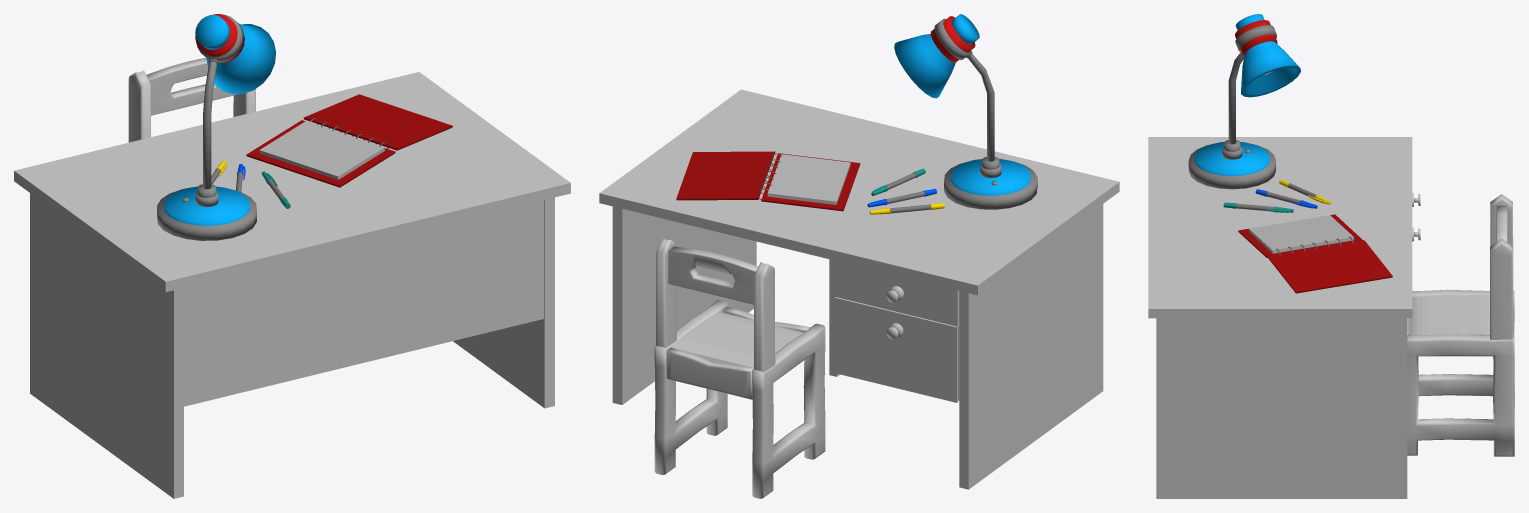
Rendered from Desk.fbx.
The picture shows the model from 3 angles, left to right: view 1: azimuth 30°, elevation 25°; view 2: azimuth 150°, elevation 25°; view 3: azimuth 270°, elevation 25°; orthographic projection. The views are drawn at different scales.
Parts seen in each view (by area): view 1: Desk; view 2: Desk; view 3: Desk.
Part boxes in pixels (bbox=[...]): Desk: bbox=[14, 14, 570, 498]; Desk: bbox=[599, 14, 1119, 498]; Desk: bbox=[1148, 14, 1514, 498].
Size of the model in its own units: 109 by 109 by 98.21.
